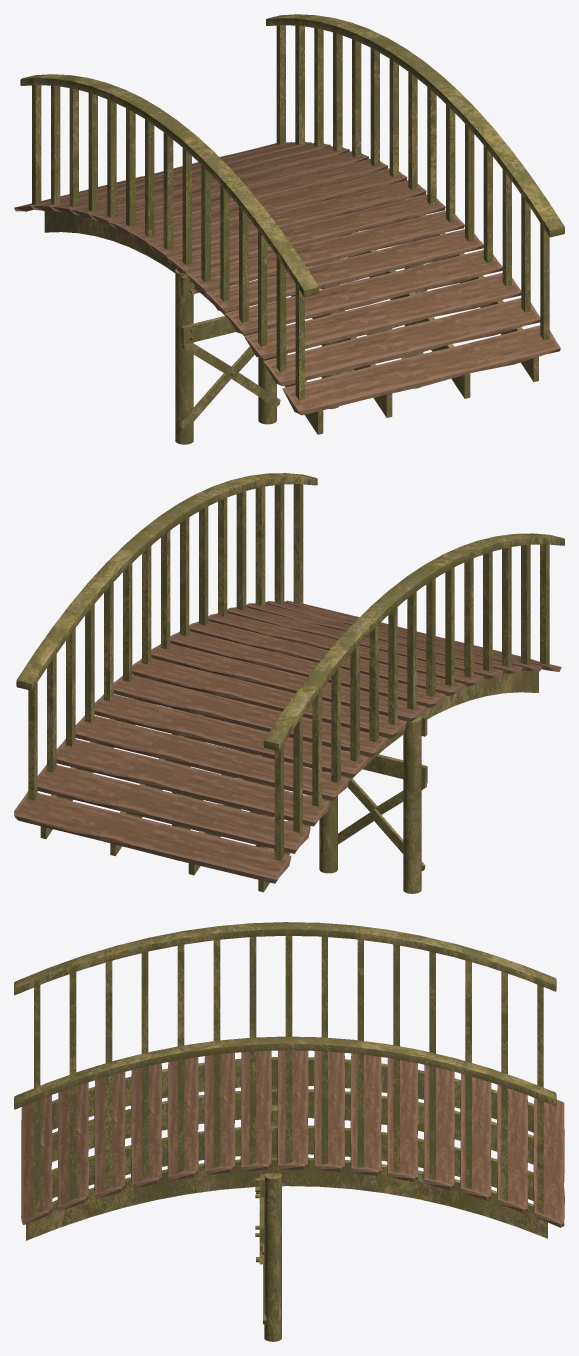
Rendered from SM_wooden_bridge_01.fbx.
3 renders of one model, top to bottom at view 1: azimuth 30°, elevation 25°; view 2: azimuth 150°, elevation 25°; view 3: azimuth 270°, elevation 25°, orthographic. The views are drawn at different scales.
Visible parts, largest first — view 1: wooden_bridge_01; view 2: wooden_bridge_01; view 3: wooden_bridge_01.
Part boxes in pixels (<box>): wooden_bridge_01: <box>14,14,564,444</box>; wooden_bridge_01: <box>14,473,564,893</box>; wooden_bridge_01: <box>14,922,564,1341</box>.
Bounding box in the file's own units: 301 × 345 × 571.
